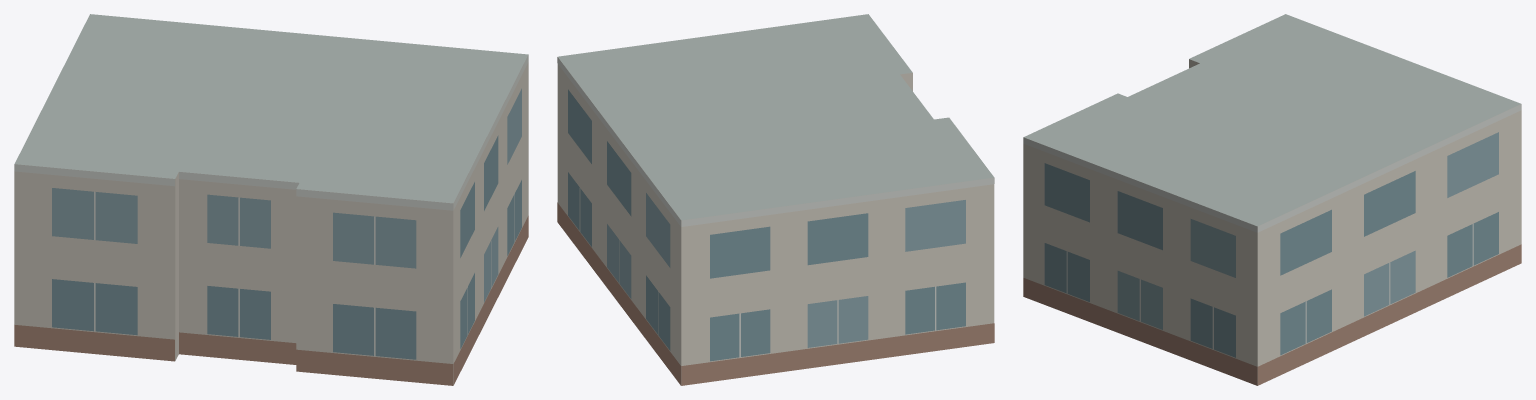
File: survey-upis-32954043.glb
3 views of the same model, side by side, from view 1: azimuth 30°, elevation 25°; view 2: azimuth 150°, elevation 25°; view 3: azimuth 270°, elevation 25° (orthographic). The views are drawn at different scales.
Visible parts, largest first — view 1: survey-upis-32954043.tmp; view 2: survey-upis-32954043.tmp; view 3: survey-upis-32954043.tmp.
Boxes of the visible parts, x1=… form: survey-upis-32954043.tmp: x1=14, y1=14, x2=528, y2=385; survey-upis-32954043.tmp: x1=557, y1=14, x2=994, y2=385; survey-upis-32954043.tmp: x1=1023, y1=14, x2=1521, y2=385.
Bounding box in the file's own units: 17.44 × 6.1 × 17.28.
